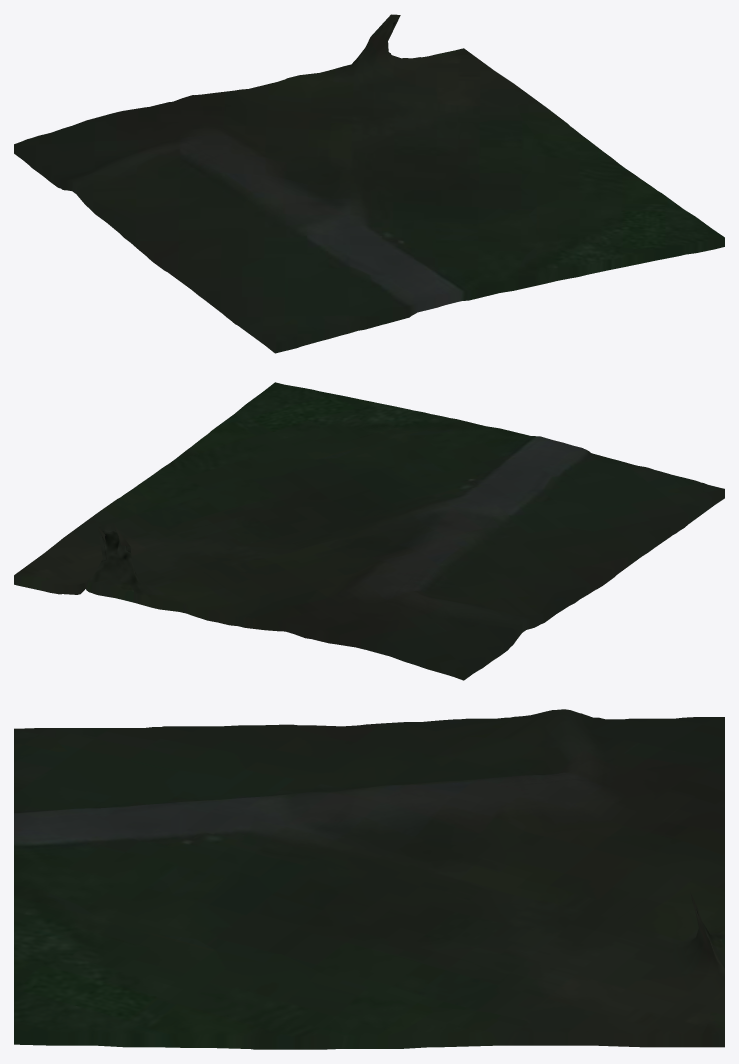
Rendered from z20-167779-405219-h0-yup-uvflip-v3-world.glb.
3 views of the same model, one above another, from view 1: azimuth 30°, elevation 25°; view 2: azimuth 150°, elevation 25°; view 3: azimuth 270°, elevation 25° (orthographic). The views are drawn at different scales.
Bounding box in the file's own units: 30.16 × 4.84 × 30.32.
Materials: 1 (1 with a texture image).
